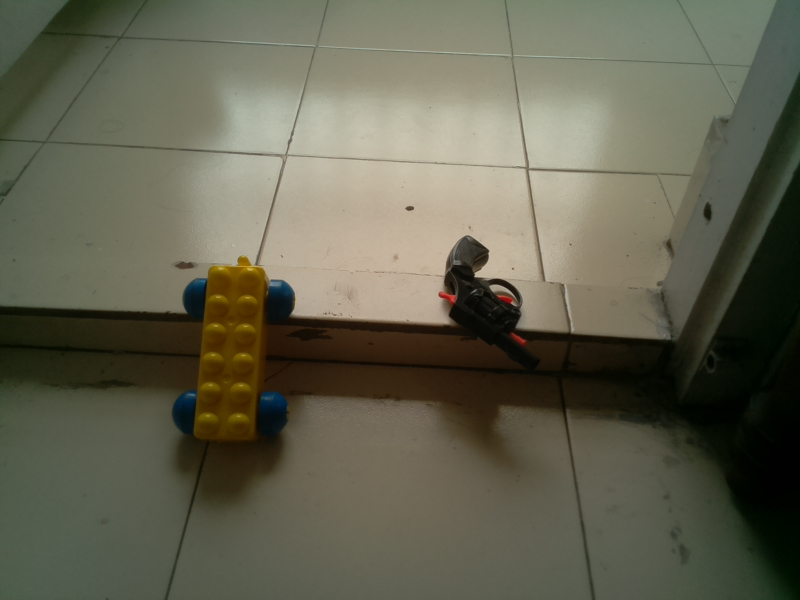Gun: (427, 227, 553, 378)
toy_Car: (164, 253, 301, 452)
